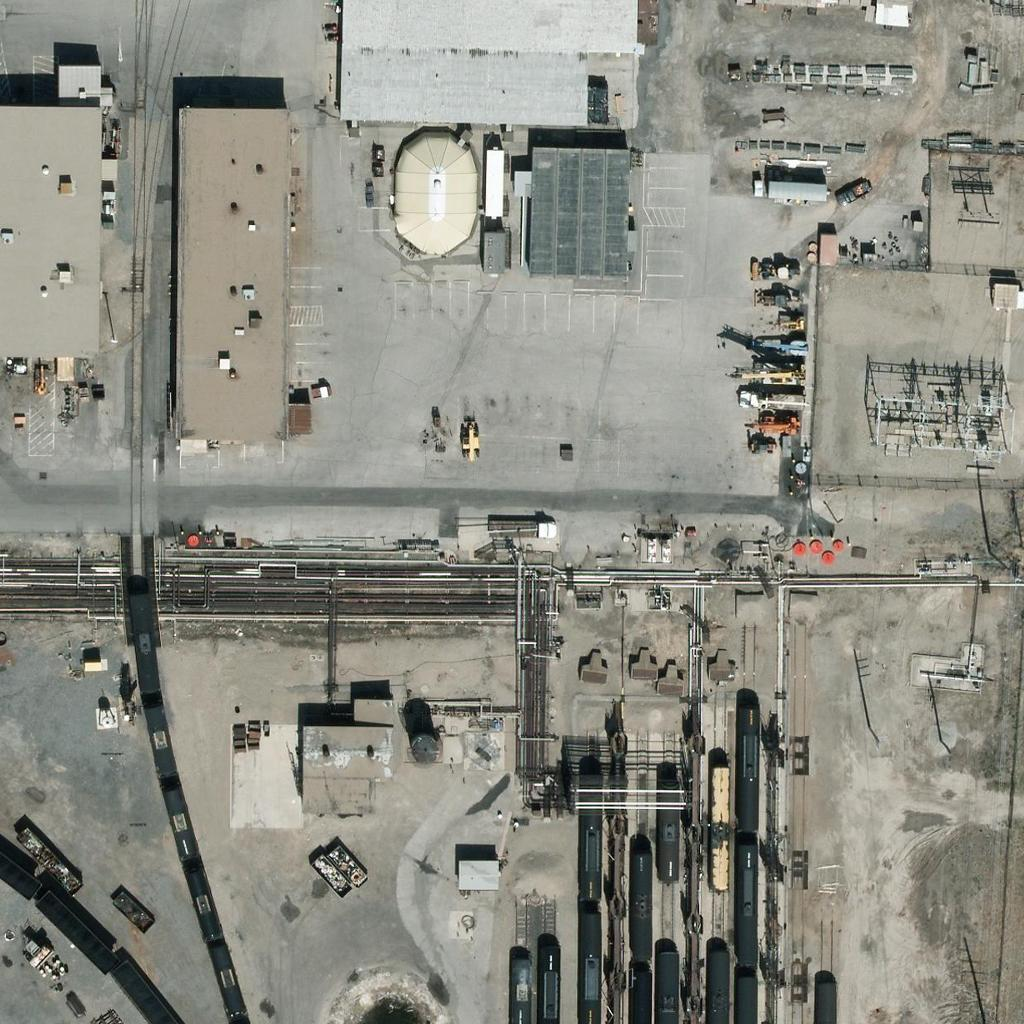car: (834, 176, 868, 210)
